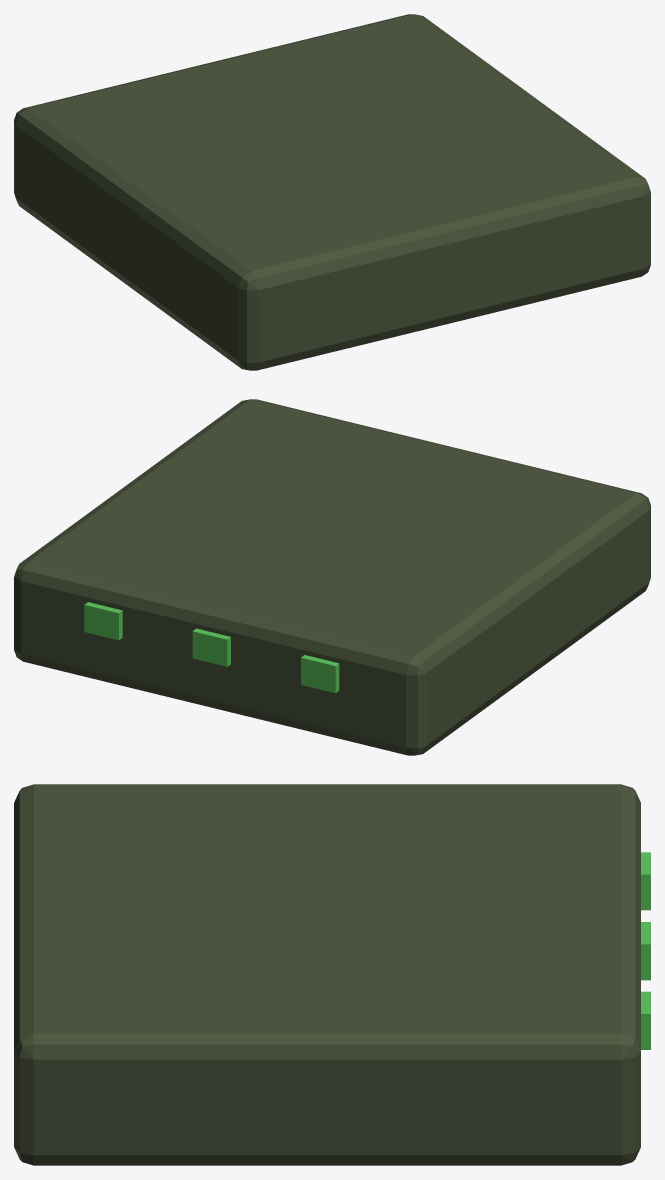
The model's file is mortar_base.obj.
The picture shows the model from 3 angles, top to bottom: view 1: azimuth 30°, elevation 25°; view 2: azimuth 150°, elevation 25°; view 3: azimuth 270°, elevation 25°; orthographic projection. The views are drawn at different scales.
Parts seen in each view (by area): view 1: MortarBase; view 2: MortarBase; view 3: MortarBase.
Part boxes in pixels (x1,y1,x2,y2): MortarBase: (14, 14, 650, 370); MortarBase: (14, 399, 650, 755); MortarBase: (14, 784, 650, 1165).
Size of the model in its own units: 0.95 by 0.22 by 0.965.
